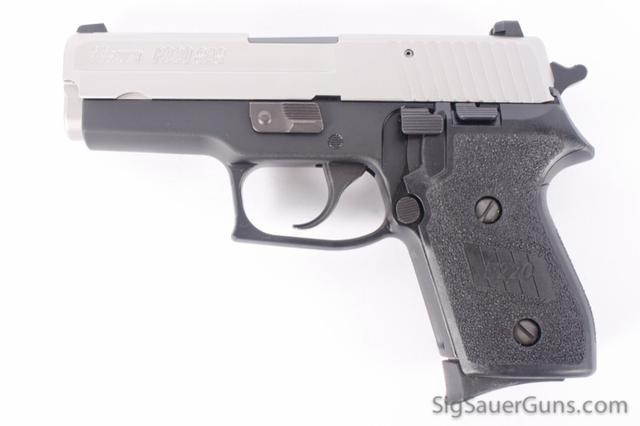handgun: (62, 16, 600, 410)
